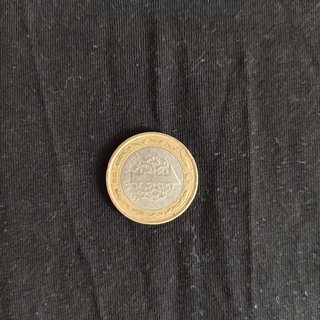1TL: (104, 130, 200, 226)
